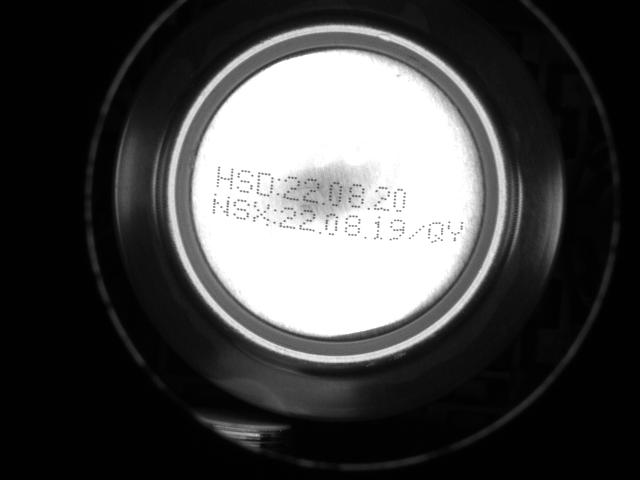.: (320, 191, 327, 207), (315, 220, 322, 236), (364, 195, 371, 211), (362, 225, 369, 241)
/: (408, 223, 425, 241)
0: (328, 179, 344, 206), (323, 210, 339, 237), (391, 186, 407, 213)
1: (373, 214, 383, 240)
2: (282, 174, 300, 203), (278, 202, 296, 231), (301, 174, 319, 203), (297, 205, 315, 234), (372, 183, 390, 212)
8: (347, 181, 365, 209), (342, 210, 360, 238)
9: (389, 217, 406, 242)
:: (275, 175, 283, 200), (270, 203, 278, 228)
D: (254, 170, 275, 198)
H: (213, 163, 234, 192)
N: (211, 191, 230, 217)
Q: (427, 219, 445, 245)
S: (235, 167, 253, 195), (232, 195, 250, 223)
X: (251, 199, 271, 227)
Y: (445, 217, 465, 245)
